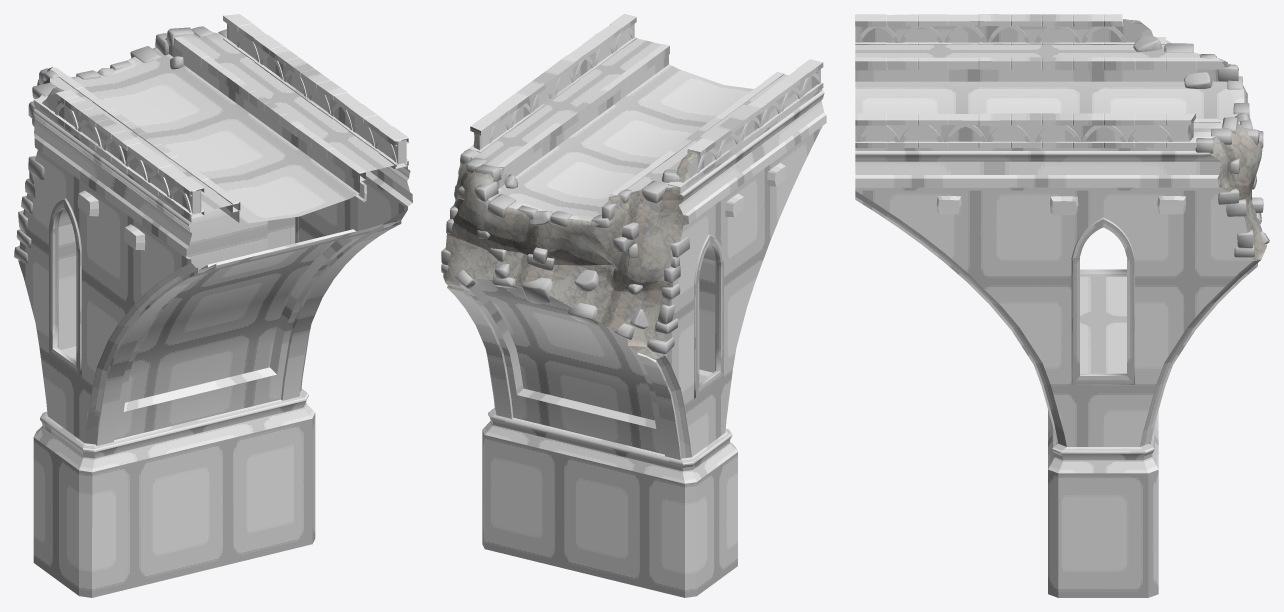
The model's file is SM_Aqueduct_01_Broken.fbx.
3 views of the same model, side by side, from view 1: azimuth 30°, elevation 25°; view 2: azimuth 150°, elevation 25°; view 3: azimuth 270°, elevation 25° (orthographic). The views are drawn at different scales.
Parts seen in each view (by area): view 1: SM_Aqueduct_01_Broken_LOD0; view 2: SM_Aqueduct_01_Broken_LOD0; view 3: SM_Aqueduct_01_Broken_LOD0.
Part boxes in pixels (x1,y1,x2,y2): SM_Aqueduct_01_Broken_LOD0: [14, 14, 412, 597]; SM_Aqueduct_01_Broken_LOD0: [441, 14, 826, 597]; SM_Aqueduct_01_Broken_LOD0: [855, 14, 1269, 597].
Size of the model in its own units: 1089 by 1670 by 2105.
